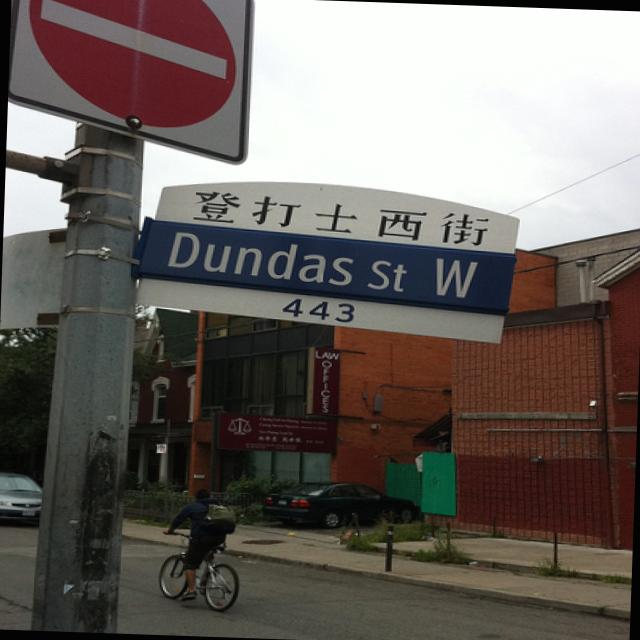Vehicle: (259, 478, 422, 532), (0, 469, 39, 525)
